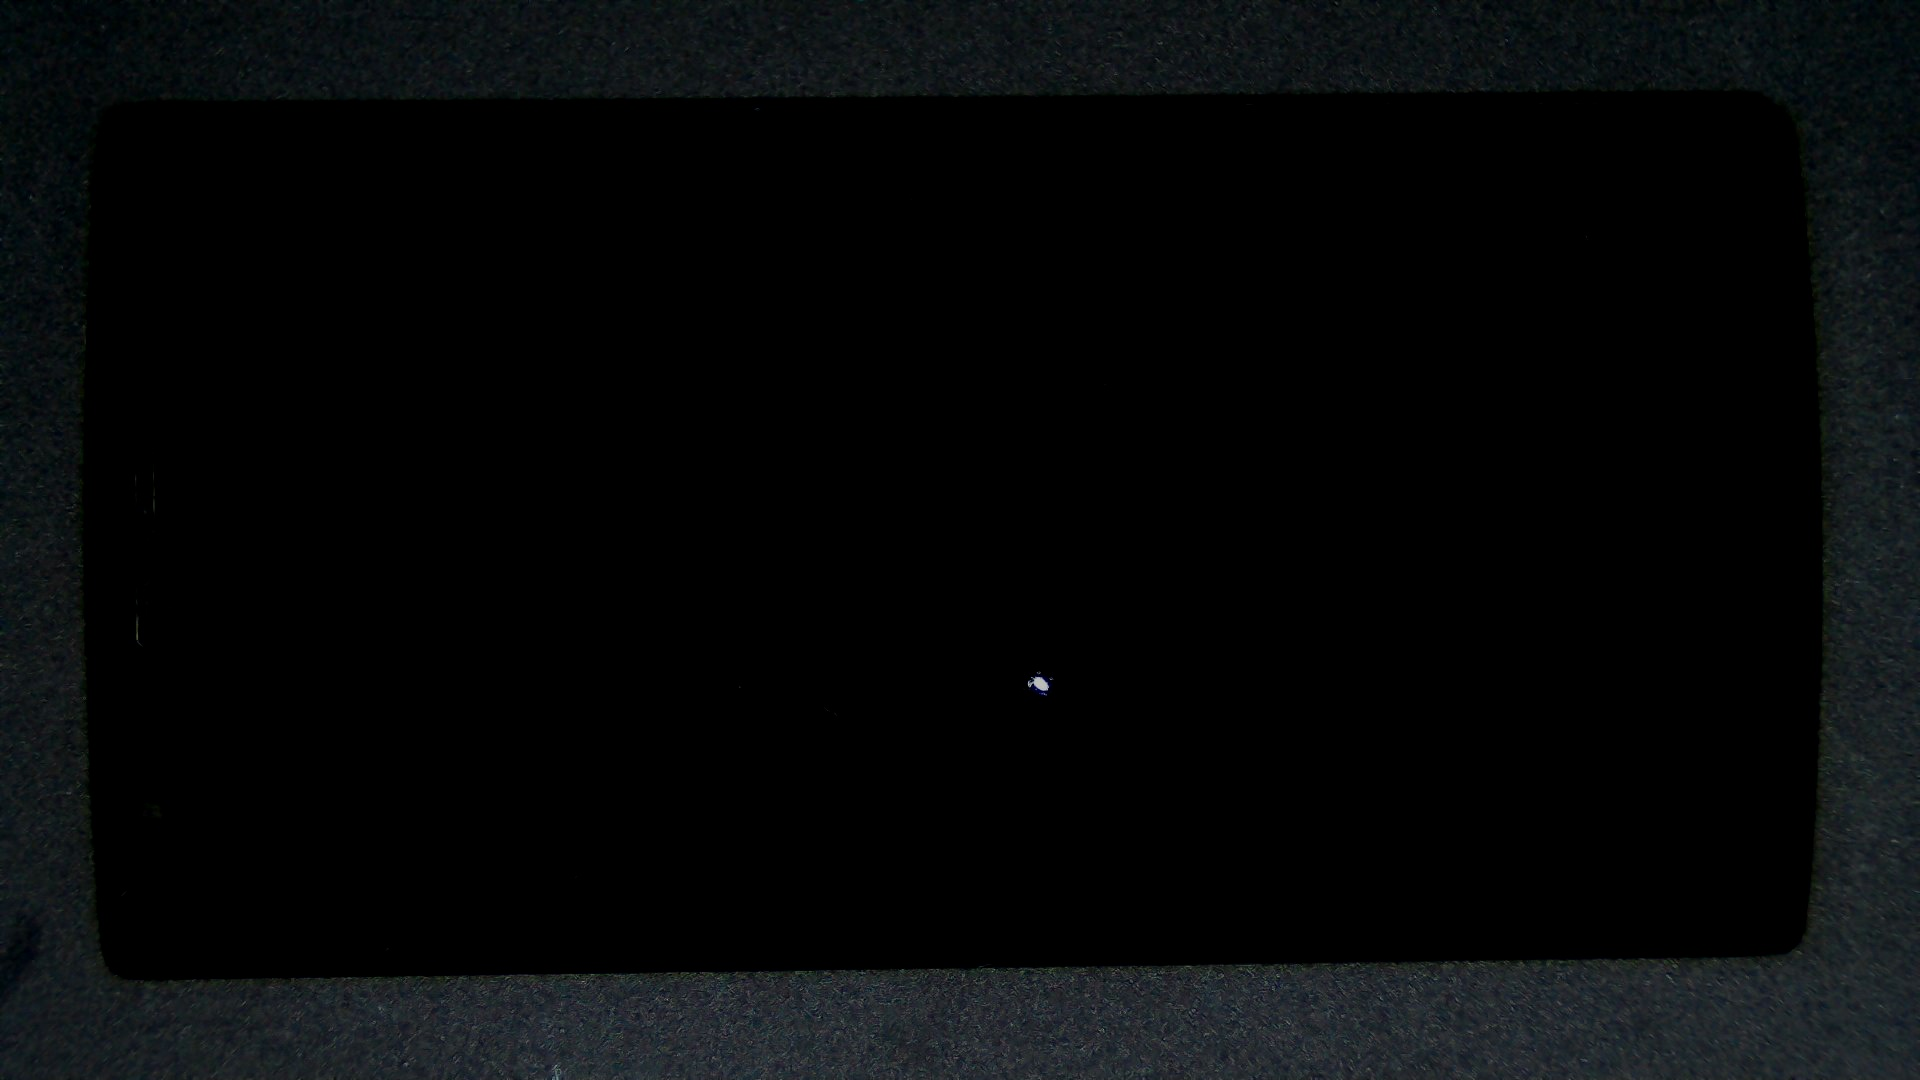oil: (520, 335, 1557, 1006)
